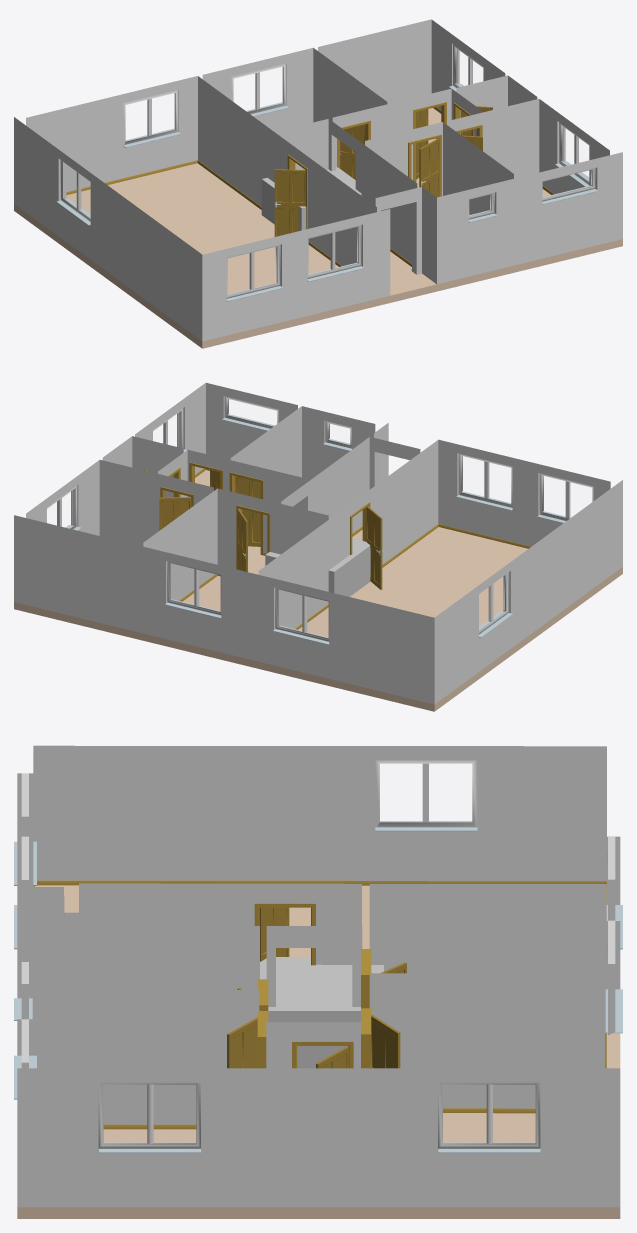
The model's file is house.gltf.
3 renders of one model, top to bottom at view 1: azimuth 30°, elevation 25°; view 2: azimuth 150°, elevation 25°; view 3: azimuth 270°, elevation 25°, orthographic. The views are drawn at different scales.
Parts seen in each view (by area): view 1: MAUERWERK, Deckfläche_1_2, BODEN, Cube, Sweep, Würfel_26, Rahmen_4, Rahmen_6, Rahmen_5, Rahmen_3, Würfel_11; view 2: MAUERWERK, Deckfläche_1_2, BODEN, Cube, Sweep, Würfel_26, Rahmen_5, Rahmen_3, Rahmen_4, ZARGE_2; view 3: MAUERWERK, BODEN, Cube, Deckfläche_1_2, Sweep, Rahmen_7, Rahmen_2, Rahmen, Rahmen_3, Würfel_2, Würfel, Würfel_7 (+2 smaller).
Boxes of the visible parts, x1,y1,x2,y2 form: MAUERWERK: (14, 19, 622, 341); Deckfläche_1_2: (66, 108, 550, 295); BODEN: (14, 204, 622, 348); Cube: (261, 167, 361, 230); Sweep: (66, 160, 341, 266); Würfel_26: (274, 169, 305, 236); Rahmen_4: (123, 89, 178, 145); Rahmen_6: (226, 244, 280, 298); Rahmen_5: (307, 225, 361, 278); Rahmen_3: (231, 63, 286, 114); Würfel_11: (419, 138, 439, 196); MAUERWERK: (14, 382, 622, 704); Deckfläche_1_2: (183, 470, 527, 637); BODEN: (14, 567, 622, 711); Cube: (265, 537, 370, 596); Sweep: (295, 524, 530, 629); Würfel_26: (366, 506, 382, 589); Rahmen_5: (458, 453, 512, 507); Rahmen_3: (167, 561, 221, 615); Rahmen_4: (275, 588, 329, 641); ZARGE_2: (229, 472, 263, 555); MAUERWERK: (17, 745, 620, 1207); BODEN: (17, 1207, 620, 1218); Cube: (260, 957, 383, 1068); Deckfläche_1_2: (34, 885, 620, 1142); Sweep: (33, 880, 606, 904); Rahmen_7: (375, 760, 477, 827); Rahmen_2: (438, 1082, 540, 1148); Rahmen: (98, 1082, 200, 1148); Rahmen_3: (608, 920, 615, 1035); Würfel_2: (438, 1142, 540, 1153); Würfel: (98, 1142, 200, 1153); Würfel_7: (375, 821, 477, 831).
Bounding box in the file's own units: 12.27 × 3.4 × 9.53.
